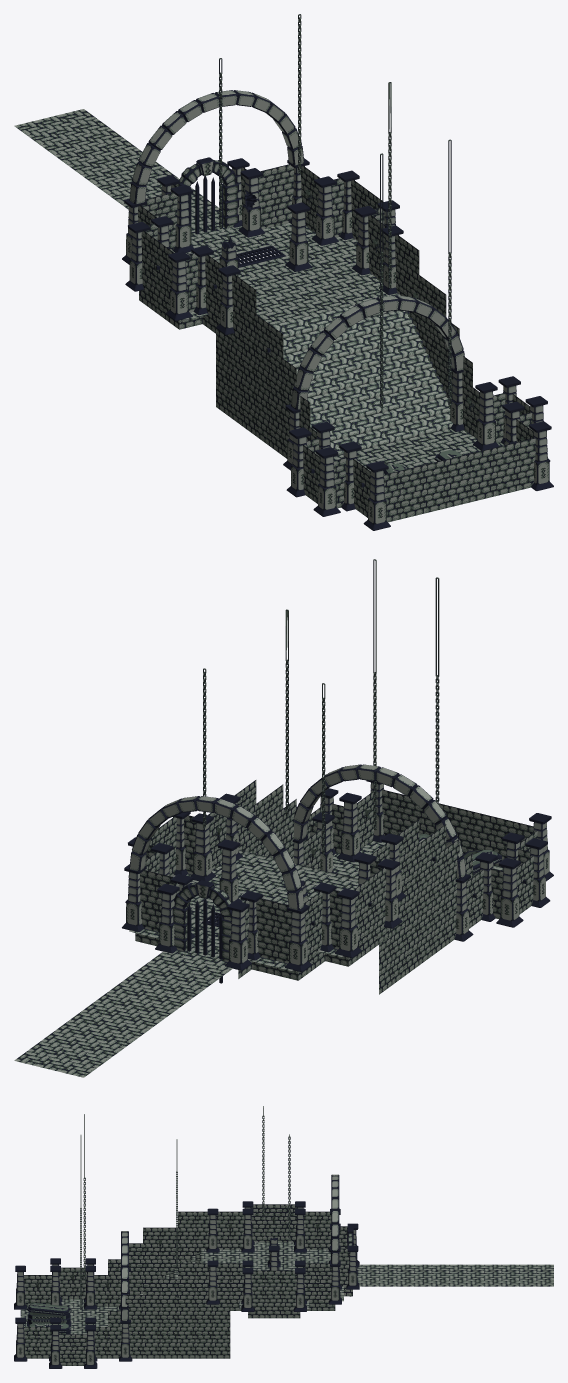
Rendered from Level1.fbx.
The picture shows the model from 3 angles, top to bottom: view 1: azimuth 30°, elevation 25°; view 2: azimuth 150°, elevation 25°; view 3: azimuth 270°, elevation 25°; orthographic projection. The views are drawn at different scales.
Parts seen in each view (by area): view 1: Level1, Door; view 2: Level1, Door; view 3: Level1.
Part boxes in pixels (left/top/right/bottom): Level1: left=14, top=14, right=553, bottom=530; Door: left=188, top=176, right=222, bottom=234; Level1: left=14, top=559, right=553, bottom=1077; Door: left=187, top=899, right=222, bottom=983; Level1: left=14, top=1106, right=553, bottom=1368.
Size of the model in its own units: 48.88 by 67.33 by 154.
